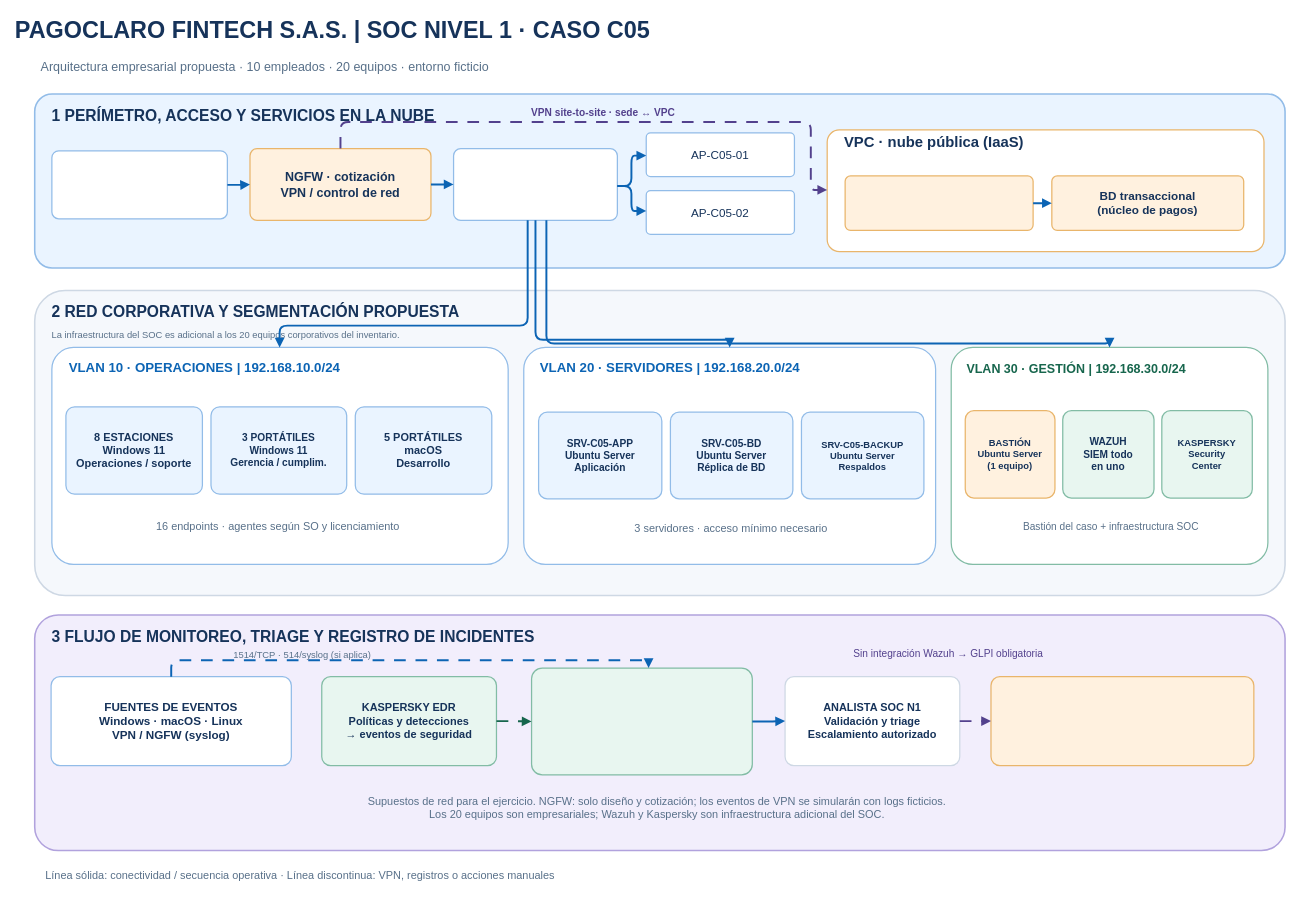
Image size: 1299x900. Some labels were removed from this diagram. Here are the shapes that lost their labels. From the top down, the centre of each, then its label:
the point at 139,184: INTERNET / USUARIOS Acceso remoto
the point at 535,184: SW-C05-01 Switch 24 puertos
the point at 938,203: API de pagos (servicio expuesto)
the point at 642,721: WAZUH SIEM Agentes · FIM · alertas Correlación / dashboards
the point at 1122,721: GLPI EN LA NUBE Inventario, tickets y SLA Registro manual del incidente
